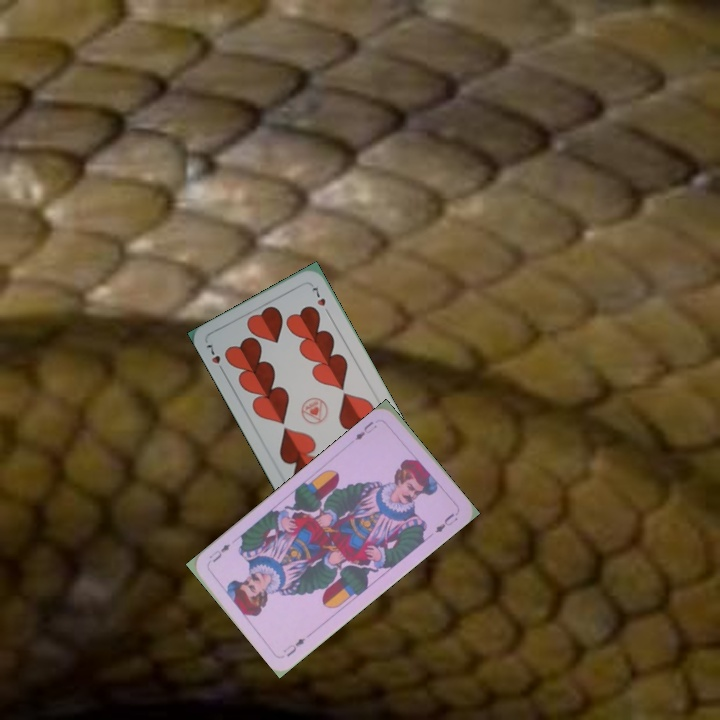EU: (351, 417, 380, 443), (279, 634, 307, 660)
H7: (202, 339, 228, 376)
